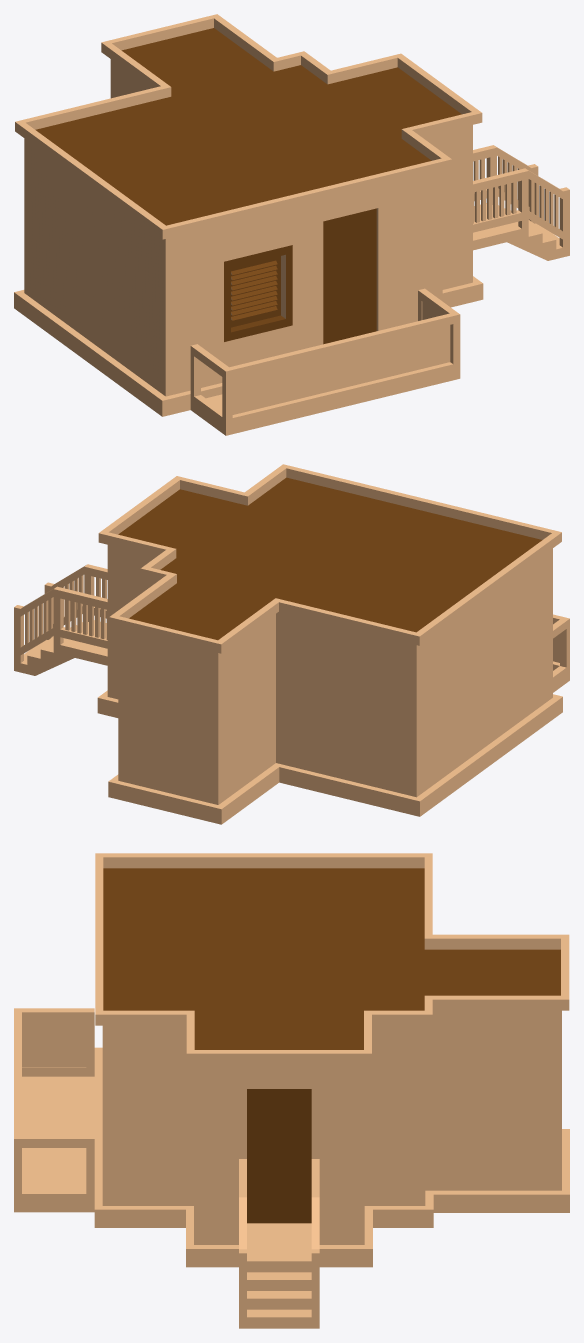
Rendered from building_ol.gltf.
3 renders of one model, top to bottom at view 1: azimuth 30°, elevation 25°; view 2: azimuth 150°, elevation 25°; view 3: azimuth 270°, elevation 25°, orthographic. The views are drawn at different scales.
Parts seen in each view (by area): view 1: building_ol; view 2: building_ol; view 3: building_ol.
Boxes of the visible parts, x1,y1,x2,y2 form: building_ol: (14, 14, 569, 435); building_ol: (14, 464, 569, 824); building_ol: (14, 853, 569, 1328).
Bounding box in the file's own units: 1068 × 405 × 957.
